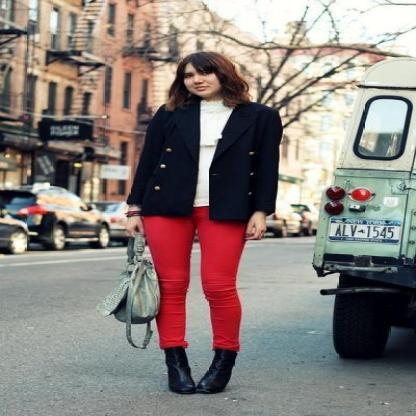bag: (95, 241, 159, 348)
jacket: (119, 95, 286, 224)
pants: (143, 208, 262, 340)
shirt: (193, 100, 232, 206)
shoe: (159, 334, 239, 394)
